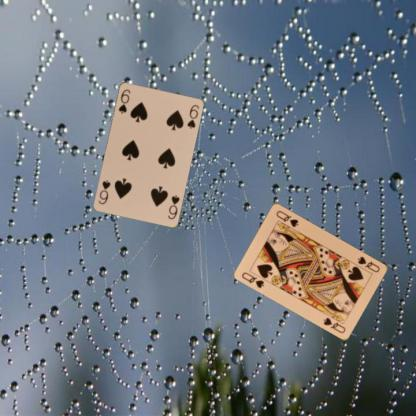6s: (165, 193, 181, 220), (116, 87, 131, 114)
Qs: (239, 270, 266, 290), (356, 254, 382, 274)
